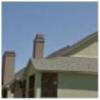chimneys: (2, 50, 15, 88), (33, 34, 46, 60)
